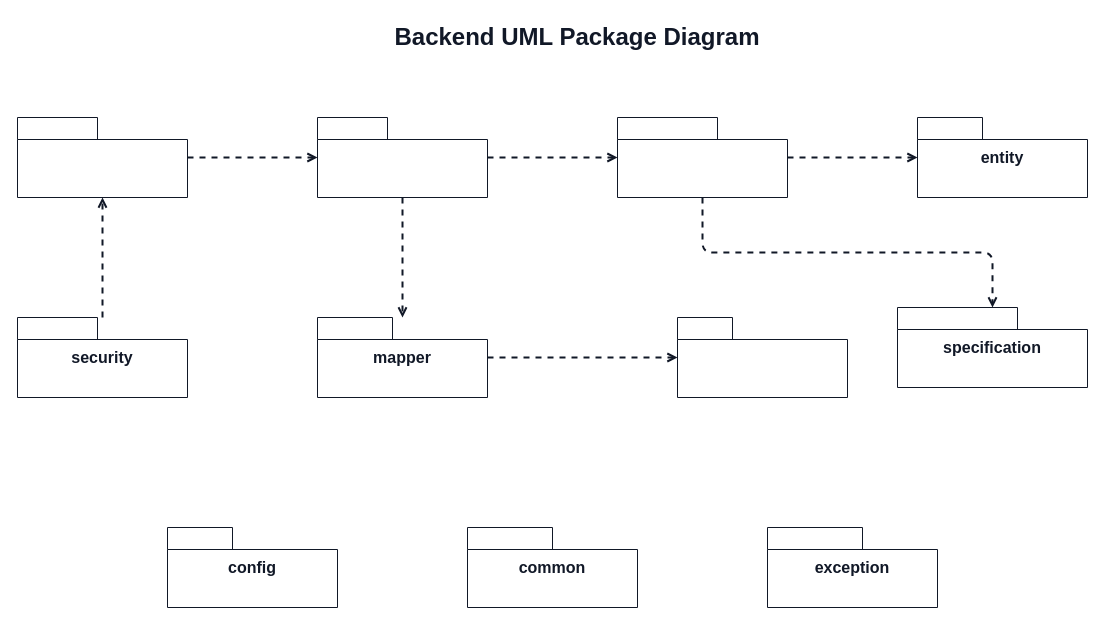
This 1105x625 diagram has some shape labels left out. The centre of each missing label's shape, as x and y in pixels:
controller: point 102,157
dto: point 762,357
repository: point 702,157
service: point 402,157
